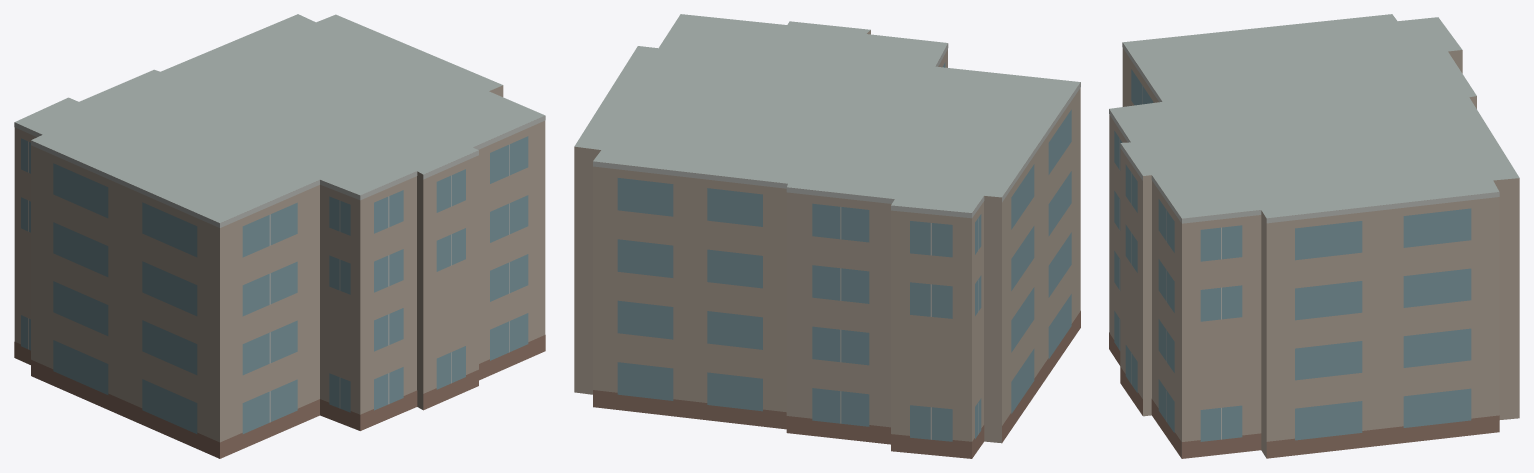
File: survey-upis-32929953.glb
The picture shows the model from 3 angles, left to right: view 1: azimuth 30°, elevation 25°; view 2: azimuth 150°, elevation 25°; view 3: azimuth 270°, elevation 25°; orthographic projection. The views are drawn at different scales.
Parts seen in each view (by area): view 1: survey-upis-32929953.tmp; view 2: survey-upis-32929953.tmp; view 3: survey-upis-32929953.tmp.
Boxes of the visible parts, <box> form: survey-upis-32929953.tmp: <box>14,14,545,458</box>; survey-upis-32929953.tmp: <box>574,14,1080,458</box>; survey-upis-32929953.tmp: <box>1109,14,1519,458</box>.
Bounding box in the file's own units: 21.2 × 11.6 × 17.98.
